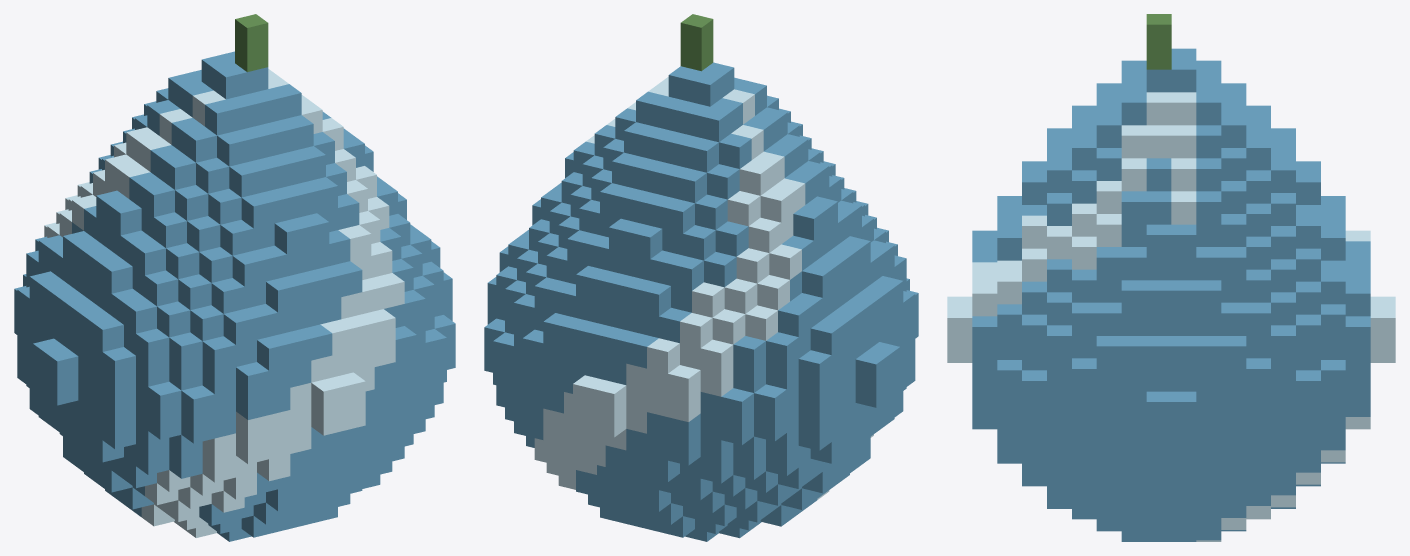
File: kira_kira.glb
3 views of the same model, side by side, from view 1: azimuth 30°, elevation 25°; view 2: azimuth 150°, elevation 25°; view 3: azimuth 270°, elevation 25° (orthographic). The views are drawn at different scales.
Visible parts, largest first — view 1: akuma_kira_kira; view 2: akuma_kira_kira; view 3: akuma_kira_kira.
Part boxes in pixels (x1=…): akuma_kira_kira: x1=14, y1=14, x2=455, y2=541; akuma_kira_kira: x1=484, y1=14, x2=918, y2=541; akuma_kira_kira: x1=947, y1=14, x2=1395, y2=541.
Size of the model in its own units: 0.468 by 0.572 by 0.468.
Materials: 1 (1 with a texture image).
